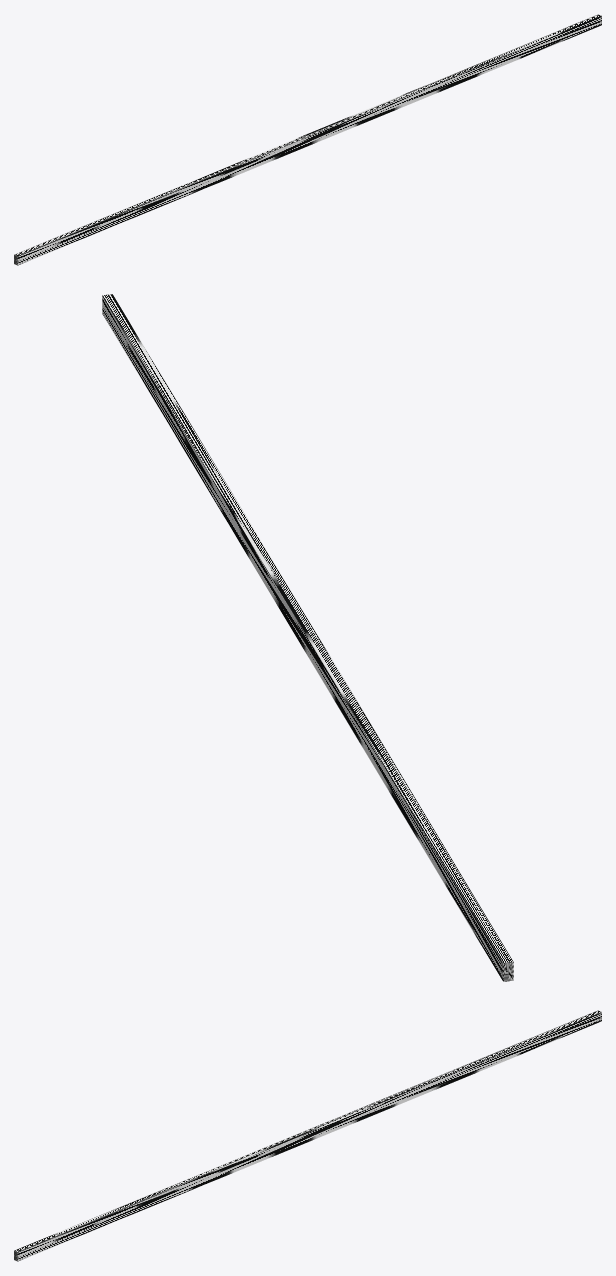
The picture shows the model from 3 angles, top to bottom: view 1: azimuth 90°, elevation 25°; view 2: azimuth 150°, elevation 25°; view 3: azimuth 270°, elevation 25°; orthographic projection. The views are drawn at different scales.
Parts seen in each view (by area): view 1: Cube.038; view 2: Cube.038; view 3: Cube.038.
Boxes of the visible parts, x1,y1,x2,y2 form: Cube.038: (14,14,601,265); Cube.038: (102,294,513,981); Cube.038: (14,1010,601,1261).
Size of the model in its own units: 14.54 by 0.2606 by 14.93.
1 material, 1 textured.
